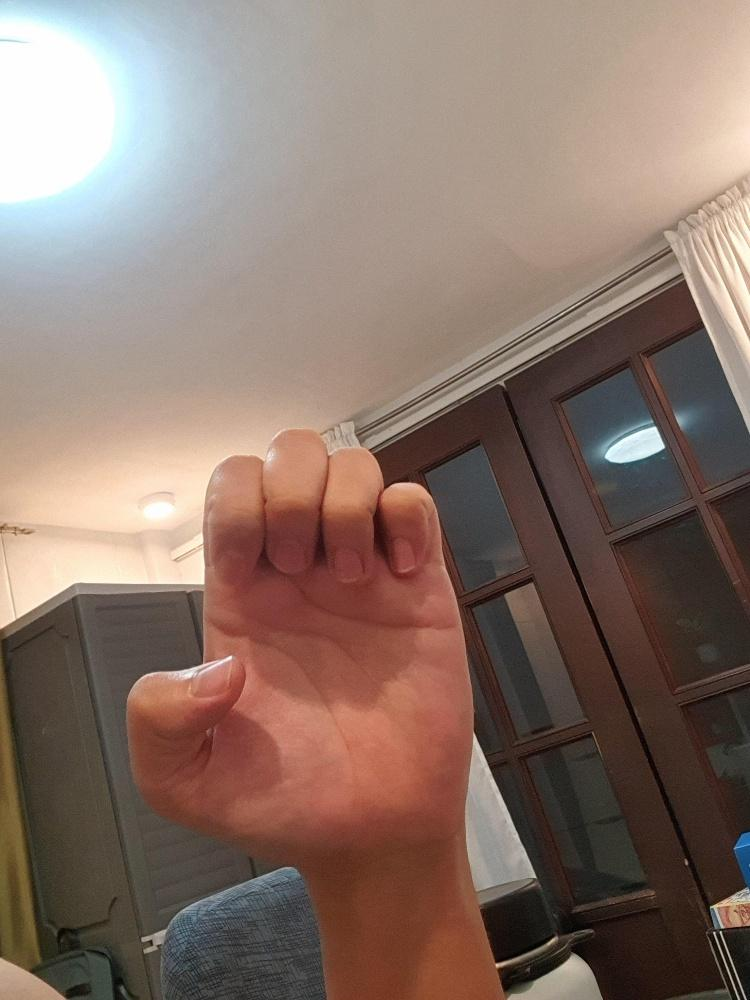e: (123, 422, 479, 874)
